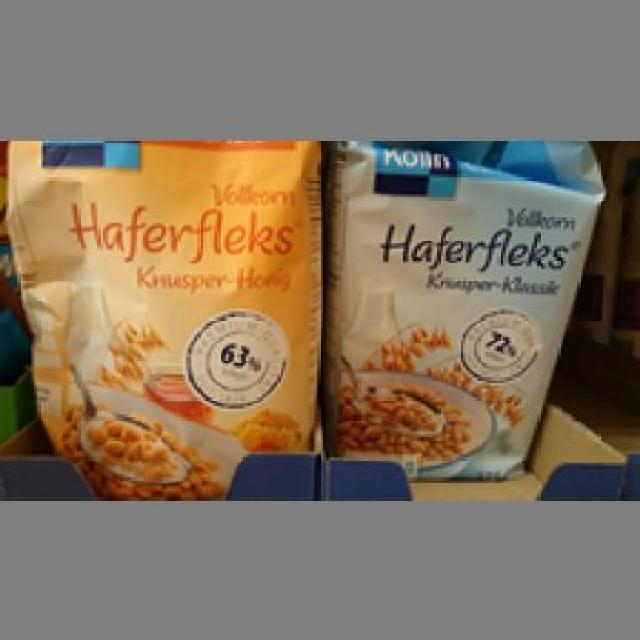Cereal: (0, 137, 317, 494), (326, 134, 606, 477)
